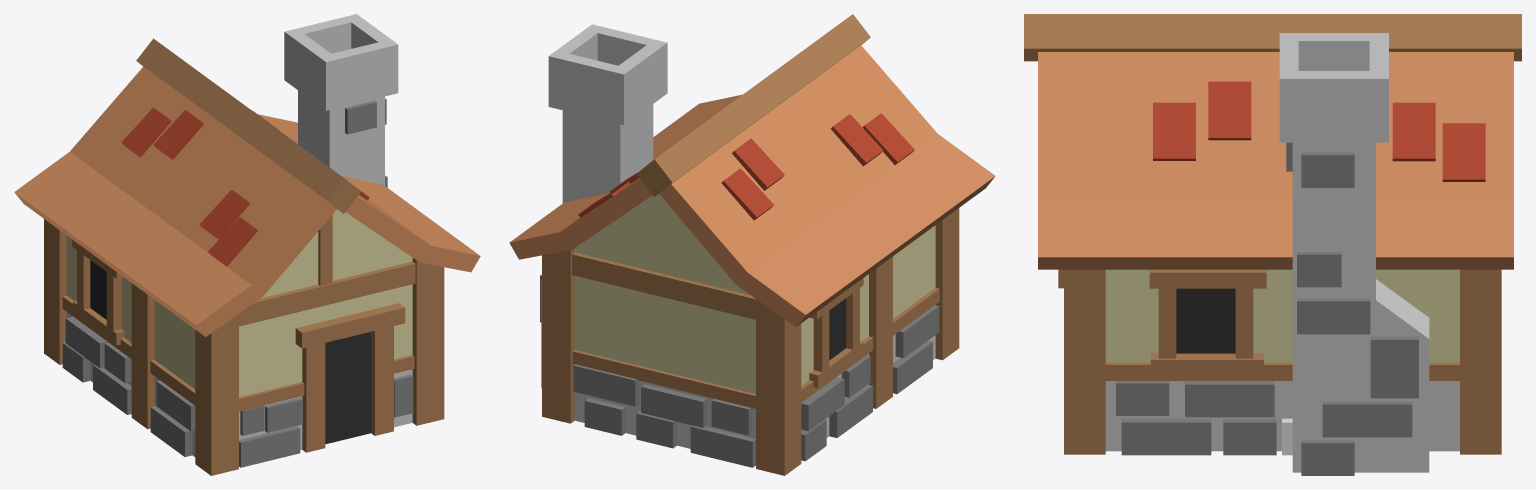
The model's file is PeasantHouseT1lv3.fbx.
3 views of the same model, side by side, from view 1: azimuth 30°, elevation 25°; view 2: azimuth 150°, elevation 25°; view 3: azimuth 270°, elevation 25° (orthographic). The views are drawn at different scales.
Visible parts, largest first — view 1: Cube.012, Cube, Cube.049, Cube.013, Cube.001, Cube.002, Cube.022, Cube.006, Cube.005, Cube.004, Cube.007, Cube.009 (+25 smaller); view 2: Cube.012, Cube, Cube.049, Cube.013, Cube.004, Cube.003, Cube.011, Cube.001, Cube.005, Cube.065, Cube.025, Cube.042 (+21 smaller); view 3: Cube.012, Cube.049, Cube.013, Cube, Cube.002, Cube.003, Cube.025, Cube.024, Cube.036, Cube.035, Cube.050, Cube.052 (+15 smaller).
Boxes of the visible parts, box(x1,y1,x2,y2) form: Cube.012: box(14, 66, 480, 336); Cube: box(66, 209, 412, 397); Cube.049: box(284, 14, 398, 185); Cube.013: box(136, 38, 360, 213); Cube.001: box(195, 314, 238, 475); Cube.002: box(412, 258, 444, 425); Cube.022: box(325, 332, 370, 444); Cube.006: box(239, 261, 415, 326); Cube.005: box(131, 283, 154, 429); Cube.004: box(44, 219, 66, 364); Cube.007: box(302, 343, 325, 452); Cube.009: box(295, 303, 405, 348); Cube.012: box(509, 45, 995, 326); Cube: box(574, 194, 935, 393); Cube.049: box(541, 24, 667, 388); Cube.013: box(636, 14, 870, 196); Cube.004: box(756, 299, 801, 475); Cube.003: box(542, 248, 574, 423); Cube.011: box(572, 252, 755, 319); Cube.001: box(935, 208, 959, 360); Cube.005: box(869, 256, 892, 408); Cube.065: box(572, 350, 755, 408); Cube.025: box(574, 334, 935, 448); Cube.042: box(641, 384, 707, 427); Cube.012: box(1038, 52, 1513, 269); Cube.049: box(1279, 33, 1429, 472); Cube.013: box(1024, 14, 1521, 61); Cube: box(1105, 269, 1459, 362); Cube.002: box(1064, 269, 1105, 454); Cube.003: box(1460, 269, 1501, 454); Cube.025: box(1105, 381, 1459, 451); Cube.024: box(1176, 288, 1235, 353); Cube.036: box(1121, 418, 1211, 455); Cube.035: box(1185, 381, 1274, 417); Cube.050: box(1322, 402, 1412, 437); Cube.052: box(1370, 336, 1418, 398).
Size of the model in its own units: 534 by 529 by 598.
